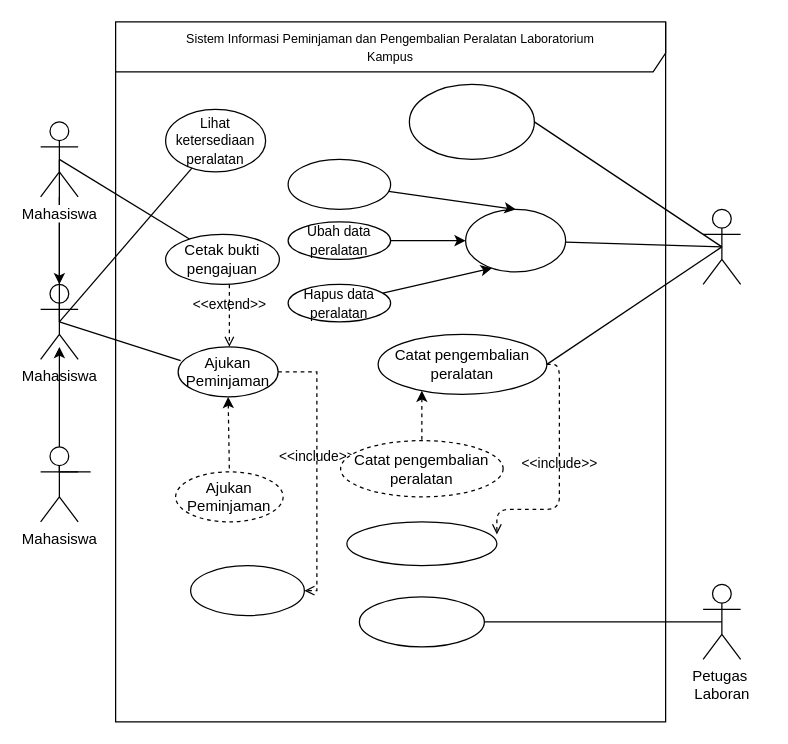
Image size: 788x744. Some labels were removed from this diagram. Each missing label, with the centre of its shape:
Kelola data peralatan: [515,240]
Lihat laporan peminjaman: [421,621]
Periksa Ketersediaan: [246,590]
Periksa kondisi peralatan: [421,543]
Petugas Laboratorium: [721,246]
Proses Keputusan Peminjaman: [471,121]
Tambah data Peralatan: [339,183]
